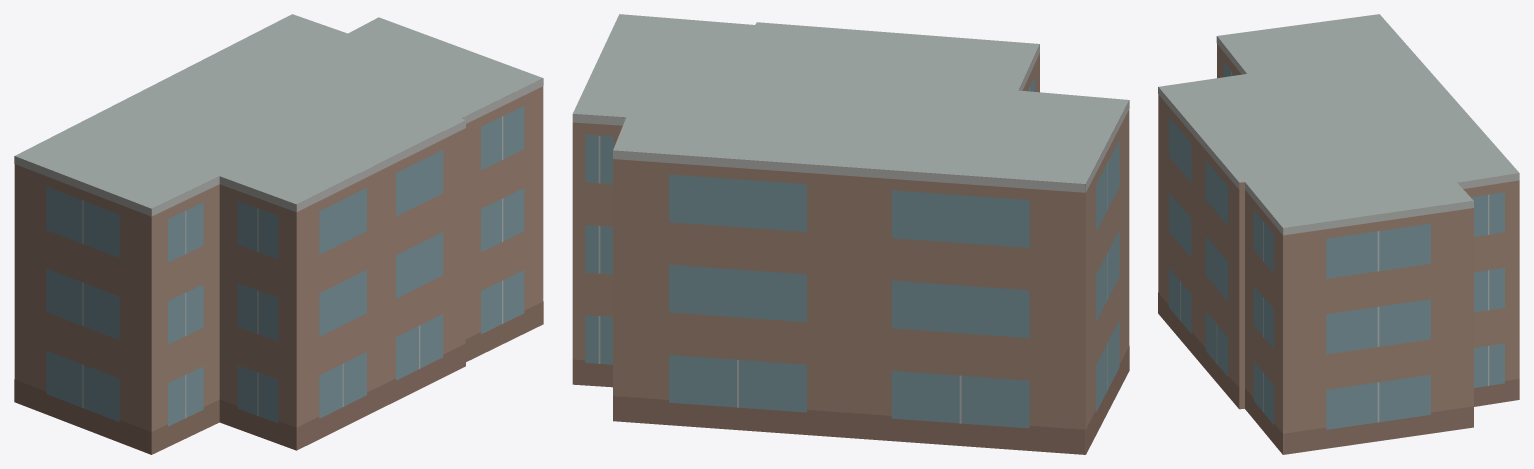
Rendered from survey-upis-32785906.glb.
3 views of the same model, side by side, from view 1: azimuth 30°, elevation 25°; view 2: azimuth 150°, elevation 25°; view 3: azimuth 270°, elevation 25° (orthographic). The views are drawn at different scales.
Parts seen in each view (by area): view 1: survey-upis-32785906.tmp; view 2: survey-upis-32785906.tmp; view 3: survey-upis-32785906.tmp.
Part boxes in pixels (left/top/right/bottom): survey-upis-32785906.tmp: left=14, top=14, right=543, bottom=454; survey-upis-32785906.tmp: left=572, top=14, right=1129, bottom=454; survey-upis-32785906.tmp: left=1158, top=14, right=1519, bottom=454.
Size of the model in its own units: 15.41 by 7.6 by 10.99.
